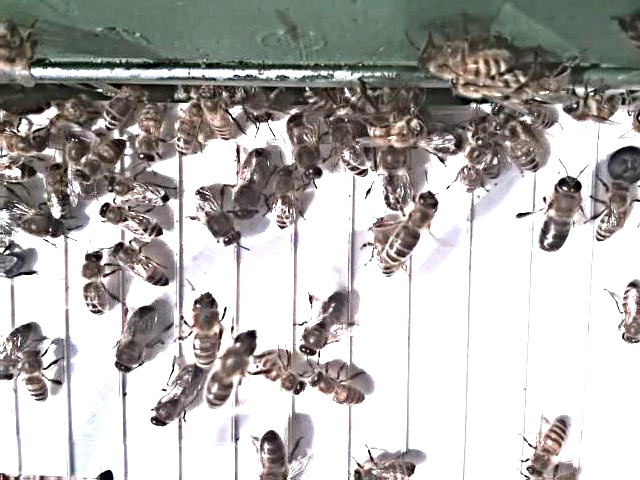Drone: (534, 174, 583, 258), (148, 363, 203, 436), (297, 291, 350, 361), (110, 304, 158, 379), (230, 143, 273, 225), (188, 187, 240, 249), (284, 111, 323, 185), (374, 147, 414, 215)
Worker: (109, 241, 174, 290), (523, 416, 570, 480), (590, 177, 632, 247), (93, 201, 164, 242), (185, 293, 221, 370), (305, 365, 368, 409), (326, 118, 368, 181), (102, 174, 173, 208), (249, 353, 302, 398), (0, 319, 33, 387), (78, 251, 108, 321), (134, 104, 163, 169), (270, 166, 296, 234), (170, 104, 200, 161), (20, 351, 50, 407), (346, 457, 416, 480), (618, 280, 640, 349)
